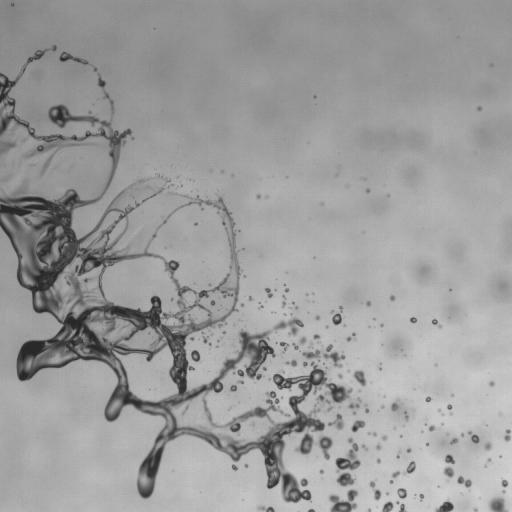droplet: (328, 490, 358, 511), (327, 412, 344, 430), (434, 497, 454, 511), (488, 497, 508, 511), (330, 305, 342, 325), (457, 475, 472, 491), (352, 370, 366, 386), (350, 420, 365, 432), (443, 466, 454, 482), (390, 398, 403, 411), (190, 350, 202, 362), (381, 501, 394, 511), (396, 500, 407, 511), (6, 87, 17, 98), (78, 120, 89, 131), (48, 123, 59, 134), (73, 143, 84, 154), (117, 144, 128, 155), (59, 145, 70, 156), (2, 187, 13, 198), (105, 187, 116, 198), (44, 190, 55, 201), (96, 199, 107, 210), (70, 207, 81, 218), (112, 243, 123, 254), (418, 314, 429, 325), (209, 325, 220, 336), (44, 327, 55, 338), (277, 328, 288, 339), (37, 330, 48, 341), (183, 341, 194, 352), (285, 348, 296, 359), (266, 363, 277, 374), (262, 368, 273, 379), (184, 370, 195, 381), (326, 372, 337, 383), (107, 375, 118, 386), (221, 375, 232, 386), (346, 377, 357, 388), (185, 379, 196, 390), (290, 384, 301, 395), (279, 388, 290, 399), (279, 400, 290, 411), (123, 403, 134, 414), (317, 411, 328, 422), (154, 415, 165, 426), (342, 416, 353, 427), (322, 425, 333, 436), (352, 430, 363, 441), (291, 431, 302, 442), (175, 433, 186, 444), (365, 436, 376, 447), (493, 437, 504, 448), (163, 440, 174, 451), (310, 443, 321, 454), (328, 447, 339, 458), (252, 448, 263, 459), (279, 450, 290, 461), (220, 453, 231, 464), (157, 459, 168, 470), (282, 462, 293, 473), (329, 466, 340, 477), (394, 476, 405, 487), (491, 487, 502, 498), (444, 454, 455, 464), (346, 332, 356, 342), (397, 488, 406, 499), (503, 429, 511, 441), (264, 288, 273, 298), (13, 107, 22, 116), (90, 123, 99, 132), (99, 136, 108, 145), (39, 150, 48, 159), (165, 169, 174, 178), (69, 221, 78, 230), (236, 252, 245, 261), (237, 292, 246, 301), (272, 293, 281, 302), (296, 327, 305, 336), (32, 332, 41, 341), (284, 334, 293, 343), (272, 343, 281, 352), (300, 343, 309, 352), (295, 354, 304, 363), (302, 366, 311, 375), (202, 375, 211, 384), (350, 379, 359, 388), (348, 391, 357, 400), (246, 401, 255, 410), (234, 406, 243, 415), (355, 411, 364, 420), (387, 430, 396, 439), (138, 450, 147, 459), (354, 450, 363, 459), (159, 453, 168, 462), (398, 461, 407, 470), (257, 462, 266, 471), (338, 492, 347, 501), (389, 493, 398, 502), (378, 495, 387, 504), (484, 441, 492, 450), (505, 500, 511, 511), (481, 505, 492, 511), (449, 437, 458, 444), (375, 442, 382, 450), (488, 380, 495, 387), (428, 424, 435, 431), (361, 444, 368, 451), (54, 49, 61, 56), (69, 109, 76, 116), (80, 109, 87, 116), (44, 117, 51, 124), (65, 120, 72, 127), (93, 121, 100, 128), (17, 124, 24, 131), (76, 130, 83, 137), (49, 159, 56, 166), (116, 160, 123, 167), (163, 170, 170, 177), (99, 177, 106, 184), (178, 187, 185, 194), (78, 193, 85, 200), (210, 194, 217, 201), (234, 241, 241, 248), (128, 247, 135, 254), (250, 300, 257, 307), (283, 306, 290, 313), (42, 311, 49, 318), (295, 312, 302, 319), (282, 315, 289, 322), (272, 317, 279, 324), (283, 325, 290, 332), (255, 327, 262, 334), (247, 328, 254, 335), (191, 330, 198, 337), (305, 333, 312, 340), (292, 335, 299, 342), (221, 336, 228, 343), (14, 343, 21, 350), (235, 343, 242, 350), (229, 352, 236, 359), (184, 353, 191, 360), (89, 358, 96, 365), (216, 362, 223, 369), (338, 366, 345, 373), (37, 368, 44, 375), (10, 370, 17, 377), (242, 374, 249, 381), (23, 378, 30, 385), (334, 379, 341, 386), (270, 383, 277, 390), (342, 398, 349, 405), (384, 401, 391, 408), (261, 402, 268, 409), (286, 407, 293, 414), (396, 407, 403, 414), (297, 431, 304, 438), (281, 434, 288, 441), (374, 435, 381, 442), (478, 437, 485, 444), (200, 439, 207, 446), (326, 447, 333, 454), (485, 449, 492, 456), (375, 450, 382, 457), (160, 451, 167, 458), (295, 451, 302, 458), (339, 451, 346, 458), (239, 454, 246, 461), (329, 455, 336, 462), (491, 455, 498, 462), (451, 473, 458, 480), (261, 474, 268, 481), (294, 475, 301, 482), (345, 483, 352, 490), (297, 484, 304, 491), (152, 485, 159, 492), (151, 488, 158, 495), (133, 491, 140, 498), (352, 496, 359, 503), (257, 301, 263, 309), (409, 317, 417, 323), (376, 362, 382, 370), (390, 506, 399, 511), (389, 294, 395, 301), (337, 373, 344, 379), (425, 396, 432, 402), (419, 493, 424, 501), (248, 295, 254, 301), (365, 300, 371, 306), (381, 435, 387, 441), (256, 193, 261, 199), (314, 315, 320, 320), (406, 447, 411, 453), (318, 469, 324, 474), (507, 479, 511, 486), (251, 507, 258, 511), (477, 106, 482, 111), (365, 188, 370, 193), (47, 43, 52, 48), (65, 48, 70, 53), (29, 51, 34, 56), (71, 52, 76, 57), (22, 56, 27, 61), (66, 58, 71, 63), (100, 75, 105, 80), (8, 76, 13, 81), (93, 78, 98, 83), (103, 83, 108, 88), (96, 85, 101, 90), (108, 93, 113, 98), (104, 98, 109, 103), (53, 101, 58, 106), (112, 101, 117, 106), (474, 101, 479, 106), (478, 101, 483, 106), (481, 105, 486, 110), (472, 107, 477, 112), (480, 108, 485, 113), (43, 109, 48, 114), (476, 110, 481, 115), (98, 116, 103, 121), (104, 116, 109, 121), (28, 122, 33, 127), (130, 127, 135, 132), (118, 128, 123, 133), (34, 130, 39, 135), (130, 131, 135, 136), (125, 133, 130, 138), (27, 135, 32, 140), (99, 135, 104, 140), (86, 136, 91, 141), (104, 138, 109, 143), (15, 139, 20, 144), (39, 139, 44, 144), (71, 145, 76, 150), (50, 146, 55, 151), (8, 147, 13, 152), (1, 152, 6, 157), (45, 167, 50, 172), (114, 168, 119, 173), (111, 176, 116, 181), (98, 186, 103, 191), (168, 186, 173, 191), (360, 187, 365, 192), (161, 189, 166, 194), (253, 189, 258, 194), (217, 191, 222, 196), (201, 195, 206, 200), (184, 197, 189, 202), (222, 198, 227, 203), (82, 204, 87, 209), (226, 206, 231, 211), (127, 211, 132, 216), (232, 217, 237, 222), (92, 220, 97, 225), (87, 226, 92, 231), (124, 230, 129, 235), (146, 233, 151, 238), (3, 234, 8, 239), (75, 234, 80, 239), (234, 234, 239, 239), (138, 248, 143, 253), (11, 251, 16, 256), (238, 262, 243, 267), (12, 266, 17, 271), (12, 275, 17, 280), (238, 275, 243, 280), (14, 280, 19, 285), (269, 288, 274, 293), (26, 289, 31, 294), (262, 291, 267, 296), (284, 291, 289, 296), (385, 293, 390, 298), (307, 294, 312, 299), (394, 295, 399, 300), (385, 297, 390, 302), (370, 300, 375, 305), (27, 302, 32, 307), (361, 302, 366, 307), (234, 303, 239, 308), (28, 305, 33, 310), (334, 308, 339, 313), (31, 310, 36, 315), (231, 310, 236, 315), (310, 313, 315, 318), (224, 316, 229, 321), (51, 317, 56, 322), (300, 318, 305, 323), (340, 318, 345, 323), (313, 319, 318, 324), (328, 320, 333, 325), (374, 321, 379, 326), (337, 322, 342, 327), (57, 323, 62, 328), (432, 324, 437, 329), (220, 325, 225, 330), (314, 329, 319, 334), (346, 331, 351, 336), (184, 336, 189, 341), (211, 340, 216, 345), (304, 340, 309, 345), (267, 341, 272, 346), (322, 343, 327, 348), (288, 344, 293, 349), (329, 348, 334, 353), (198, 351, 203, 356), (336, 351, 341, 356), (266, 353, 271, 358), (287, 356, 292, 361), (77, 357, 82, 362), (327, 357, 332, 362), (67, 361, 72, 366), (355, 366, 360, 371), (272, 368, 277, 373), (349, 369, 354, 374), (111, 372, 116, 377), (213, 372, 218, 377), (268, 372, 273, 377), (282, 373, 287, 378), (235, 374, 240, 379), (363, 374, 368, 379), (490, 376, 495, 381), (485, 377, 490, 382), (219, 378, 224, 383), (236, 383, 241, 388), (487, 385, 492, 390), (490, 385, 495, 390), (209, 389, 214, 394), (218, 390, 223, 395), (333, 401, 338, 406), (205, 402, 210, 407), (100, 404, 105, 409), (352, 406, 357, 411), (208, 407, 213, 412), (347, 407, 352, 412), (444, 408, 449, 413), (99, 409, 104, 414), (144, 412, 149, 417), (100, 414, 105, 419), (116, 415, 121, 420), (226, 416, 231, 421), (407, 416, 412, 421), (439, 416, 444, 421), (211, 417, 216, 422), (400, 417, 405, 422), (113, 418, 118, 423), (426, 421, 431, 426), (434, 423, 439, 428), (423, 425, 428, 430), (357, 426, 362, 431), (431, 429, 436, 434), (383, 430, 388, 435), (501, 430, 506, 435), (152, 432, 157, 437), (455, 433, 460, 438), (477, 433, 482, 438), (368, 434, 373, 439), (466, 434, 471, 439), (386, 435, 391, 440), (447, 435, 452, 440), (499, 436, 504, 441), (379, 440, 384, 445), (470, 441, 475, 446), (356, 442, 361, 447), (451, 442, 456, 447), (347, 443, 352, 448), (357, 446, 362, 451), (401, 448, 406, 453), (440, 454, 445, 459), (451, 454, 456, 459), (481, 458, 486, 463), (229, 459, 234, 464), (233, 460, 238, 465), (486, 461, 491, 466), (447, 462, 452, 467), (332, 463, 337, 468), (344, 467, 349, 472), (391, 467, 396, 472), (334, 473, 339, 478), (442, 473, 447, 478), (396, 474, 401, 479), (462, 475, 467, 480), (369, 476, 374, 481), (496, 480, 501, 485), (459, 482, 464, 487), (469, 483, 474, 488), (374, 484, 379, 489), (504, 485, 509, 490), (405, 489, 410, 494), (309, 490, 314, 495), (379, 490, 384, 495), (369, 491, 374, 496), (299, 497, 304, 502), (398, 497, 403, 502), (449, 498, 454, 503), (288, 500, 293, 505), (438, 500, 443, 505), (472, 507, 478, 511), (0, 191, 3, 198), (52, 166, 57, 170), (284, 288, 289, 292), (240, 302, 244, 307), (460, 432, 464, 437), (376, 458, 380, 463), (244, 463, 248, 468), (264, 195, 268, 199), (346, 369, 350, 373), (380, 404, 384, 408), (425, 442, 429, 446), (389, 480, 393, 484), (193, 222, 198, 225), (366, 508, 371, 511), (0, 101, 3, 106), (508, 431, 511, 436), (508, 438, 511, 443), (450, 508, 455, 511), (11, 2, 14, 6), (176, 175, 180, 178), (386, 194, 390, 197), (170, 297, 173, 301), (343, 323, 346, 327), (380, 323, 383, 327), (325, 325, 328, 329), (357, 389, 361, 392), (450, 393, 454, 396), (393, 426, 396, 430), (499, 454, 502, 458), (385, 492, 389, 495), (413, 494, 416, 498), (9, 0, 14, 2), (0, 226, 2, 231), (490, 63, 493, 66), (313, 95, 316, 98), (220, 170, 223, 173), (320, 202, 323, 205), (208, 283, 211, 286), (283, 283, 286, 286), (449, 288, 452, 291), (305, 293, 308, 296), (311, 292, 314, 295), (372, 317, 375, 320), (434, 363, 437, 366), (424, 422, 427, 425), (441, 422, 444, 425), (420, 430, 423, 433), (446, 432, 449, 435), (399, 434, 402, 437), (478, 496, 481, 499), (13, 2, 16, 5), (7, 3, 10, 6), (10, 5, 13, 8), (55, 43, 58, 46), (40, 47, 43, 50), (40, 55, 43, 58), (32, 58, 35, 61), (74, 60, 77, 63), (28, 61, 31, 64), (85, 63, 88, 66), (94, 64, 97, 67), (90, 67, 93, 70), (96, 68, 99, 71), (23, 70, 26, 73), (93, 71, 96, 74), (101, 93, 104, 96), (310, 93, 313, 96), (315, 93, 318, 96), (310, 96, 313, 99), (14, 102, 17, 105), (159, 172, 162, 175), (151, 173, 154, 176), (162, 174, 165, 177), (144, 175, 147, 178), (179, 175, 182, 178), (137, 176, 140, 179), (132, 179, 135, 182), (186, 179, 189, 182), (129, 180, 132, 183), (180, 180, 183, 183), (167, 181, 170, 184), (177, 183, 180, 186), (173, 184, 176, 187), (182, 184, 185, 187), (163, 185, 166, 188), (67, 186, 70, 189), (369, 188, 372, 191), (368, 191, 371, 194), (173, 194, 176, 197), (193, 194, 196, 197), (198, 195, 201, 198), (253, 195, 256, 198), (260, 195, 263, 198), (148, 197, 151, 200), (142, 201, 145, 204), (177, 203, 180, 206), (138, 204, 141, 207), (173, 205, 176, 208), (131, 209, 134, 212), (167, 210, 170, 213), (160, 219, 163, 222), (155, 223, 158, 226), (232, 226, 235, 229), (150, 231, 153, 234), (235, 231, 238, 234), (122, 233, 125, 236), (234, 247, 237, 250), (280, 282, 283, 285), (283, 285, 286, 288), (449, 285, 452, 288), (288, 287, 291, 290), (445, 287, 448, 290), (449, 290, 452, 293), (308, 291, 311, 294), (248, 292, 251, 295), (392, 292, 395, 295), (245, 295, 248, 298), (269, 296, 272, 299), (280, 297, 283, 300), (366, 297, 369, 300), (284, 299, 287, 302), (363, 300, 366, 303), (260, 301, 263, 304), (294, 301, 297, 304), (338, 302, 341, 305), (289, 303, 292, 306), (284, 304, 287, 307), (341, 304, 344, 307), (272, 308, 275, 311), (340, 314, 343, 317), (372, 314, 375, 317), (409, 314, 412, 317), (413, 314, 416, 317), (319, 315, 322, 318), (430, 316, 433, 319), (371, 319, 374, 322), (379, 320, 382, 323), (428, 320, 431, 323), (409, 321, 412, 324), (380, 326, 383, 329), (367, 327, 370, 330), (351, 329, 354, 332), (354, 330, 357, 333), (224, 332, 227, 335), (220, 333, 223, 336), (354, 334, 357, 337), (200, 337, 203, 340), (343, 338, 346, 341), (219, 339, 222, 342), (283, 339, 286, 342), (349, 339, 352, 342), (205, 342, 208, 345), (217, 342, 220, 345), (215, 347, 218, 350), (400, 351, 403, 354), (343, 352, 346, 355), (344, 356, 347, 359), (376, 360, 379, 363), (376, 369, 379, 372), (380, 369, 383, 372), (259, 377, 262, 380), (232, 390, 235, 393), (429, 394, 432, 397), (423, 395, 426, 398), (359, 396, 362, 399), (427, 401, 430, 404), (451, 404, 454, 407), (377, 406, 380, 409), (368, 408, 371, 411), (449, 408, 452, 411), (437, 411, 440, 414), (406, 412, 409, 415), (440, 425, 443, 428), (467, 427, 470, 430), (471, 431, 474, 434), (396, 434, 399, 437), (402, 434, 405, 437), (399, 437, 402, 440), (422, 442, 425, 445), (428, 442, 431, 445), (364, 443, 367, 446), (425, 445, 428, 448), (408, 451, 411, 454), (393, 453, 396, 456), (398, 453, 401, 456), (379, 457, 382, 460), (499, 457, 502, 460), (373, 458, 376, 461), (490, 458, 493, 461), (247, 463, 250, 466), (228, 464, 231, 467), (483, 467, 486, 470), (316, 468, 319, 471), (231, 469, 234, 472), (235, 469, 238, 472), (319, 473, 322, 476), (391, 477, 394, 480), (386, 479, 389, 482), (433, 484, 436, 487), (399, 485, 402, 488), (264, 486, 267, 489), (436, 487, 439, 490), (422, 492, 425, 495), (416, 493, 419, 496), (417, 496, 420, 499), (421, 497, 424, 500), (419, 501, 422, 504), (272, 506, 275, 509), (365, 506, 368, 509), (215, 345, 219, 347), (180, 183, 182, 186), (164, 247, 167, 249), (243, 275, 246, 277), (274, 289, 277, 291), (283, 313, 286, 315), (233, 323, 235, 326), (400, 349, 403, 351), (382, 395, 385, 397), (437, 485, 440, 487), (509, 427, 511, 430), (370, 509, 373, 511), (470, 509, 473, 511), (313, 256, 315, 258), (264, 300, 266, 302), (368, 325, 370, 327), (413, 388, 415, 390), (485, 424, 487, 426), (0, 175, 1, 178), (377, 410, 379, 411), (382, 344, 383, 345), (149, 388, 150, 389), (297, 510, 298, 511)
ligament: (335, 437, 361, 487), (391, 461, 415, 479), (59, 51, 89, 64), (368, 478, 381, 500), (467, 430, 479, 443), (216, 330, 226, 342), (282, 359, 297, 367), (256, 505, 275, 511), (501, 477, 508, 493), (432, 318, 442, 329), (281, 294, 287, 308), (67, 162, 74, 173), (446, 404, 452, 415), (366, 431, 377, 436), (396, 447, 401, 458), (364, 403, 369, 413), (404, 411, 409, 421), (437, 408, 444, 415), (227, 405, 234, 411), (167, 183, 174, 188), (215, 296, 221, 301), (307, 508, 315, 511), (30, 163, 36, 166), (186, 178, 191, 180), (271, 311, 275, 313), (175, 186, 178, 188)
